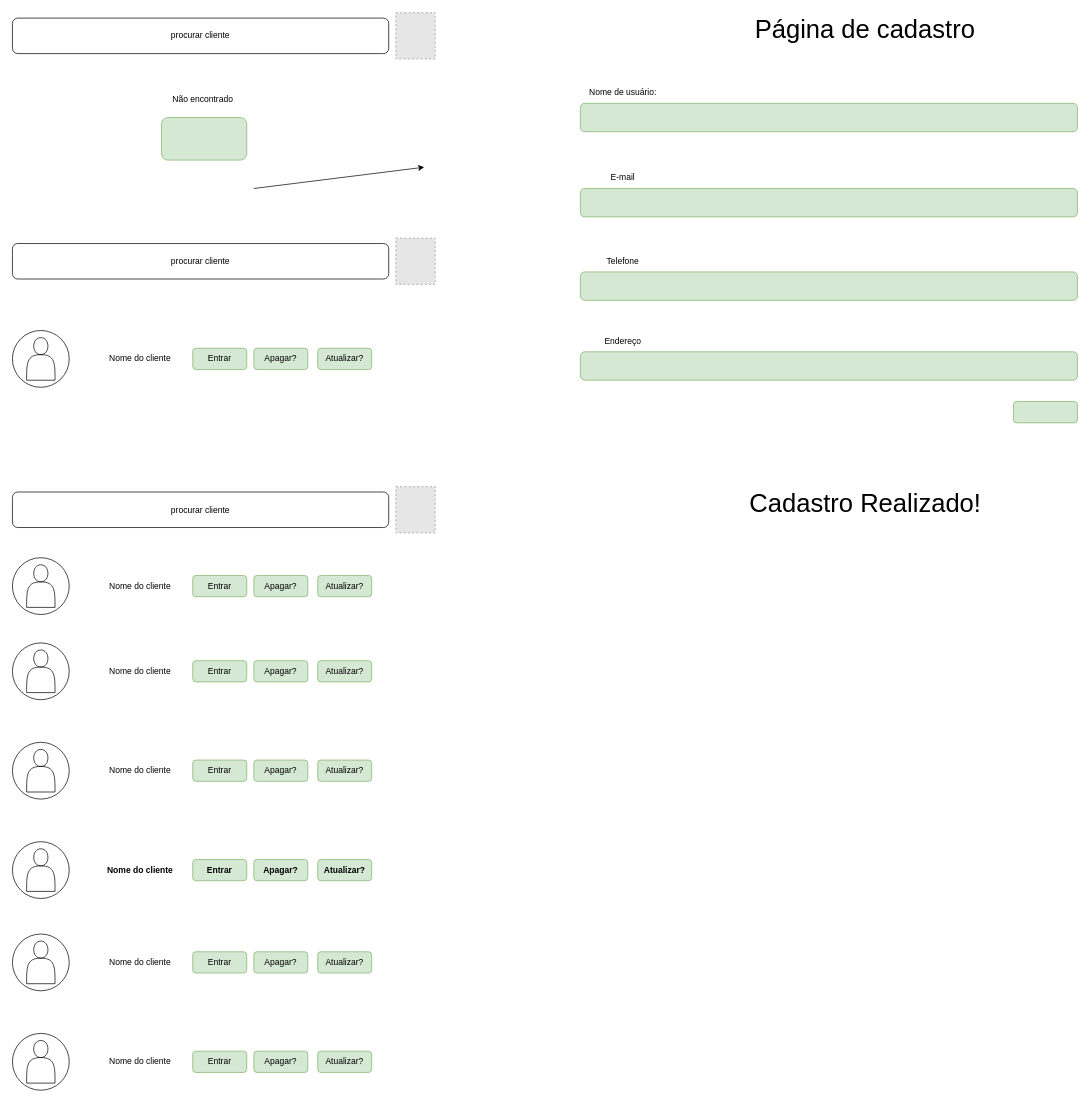
Image size: 1090x1103. Some labels were removed from this diagram. Grey dashed boxes stand in for pictures. Each missing label, with the centre of its shape:
"Fazer Cadastro" goes at point (204, 138).
"Ir" goes at point (1045, 412).
